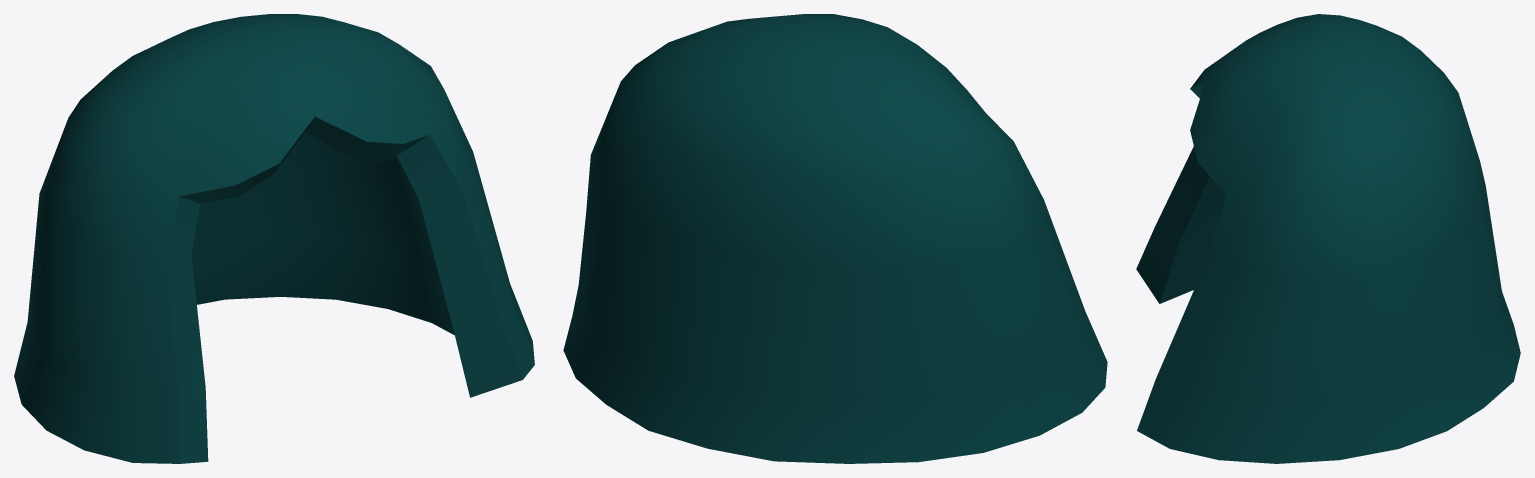
Rendered from cloak.obj.
The picture shows the model from 3 angles, left to right: view 1: azimuth 30°, elevation 25°; view 2: azimuth 150°, elevation 25°; view 3: azimuth 270°, elevation 25°; orthographic projection. The views are drawn at different scales.
Parts seen in each view (by area): view 1: cloak_Cube.5983; view 2: cloak_Cube.5983; view 3: cloak_Cube.5983.
Boxes of the visible parts, box(x1,y1,x2,y2) form: cloak_Cube.5983: box(14, 14, 534, 463); cloak_Cube.5983: box(563, 14, 1107, 463); cloak_Cube.5983: box(1136, 14, 1520, 463).
Size of the model in its own units: 1.09 by 0.7516 by 0.8087.
